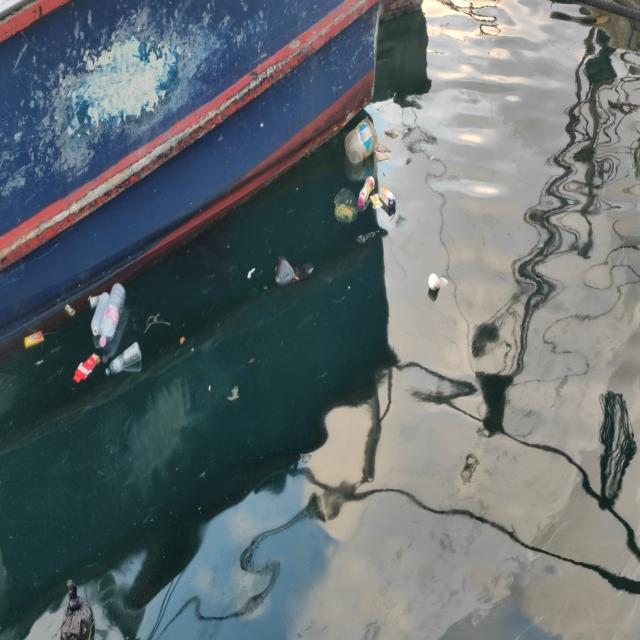Juice box: (379, 187, 397, 210)
Plastic bag: (59, 573, 99, 640), (272, 250, 316, 291), (333, 185, 359, 225), (356, 226, 386, 249), (382, 125, 402, 141)
Plastic bottle: (343, 113, 379, 165), (98, 282, 126, 347), (104, 338, 142, 380), (90, 291, 110, 338), (357, 175, 376, 208), (428, 272, 450, 292)
Plastic cup: (89, 292, 102, 310), (64, 302, 76, 318)
Plastic packaging: (70, 350, 100, 385), (24, 328, 45, 352), (374, 142, 393, 164), (370, 193, 383, 210)
